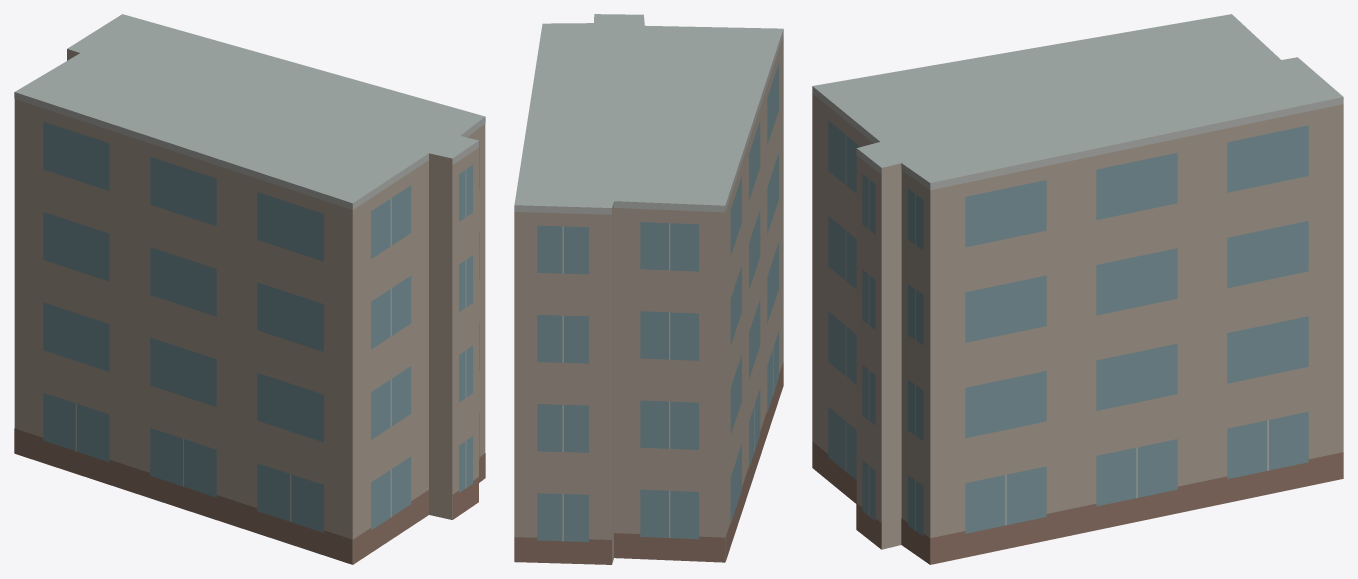
Rendered from survey-upis-32914269.glb.
3 views of the same model, side by side, from view 1: azimuth 30°, elevation 25°; view 2: azimuth 150°, elevation 25°; view 3: azimuth 270°, elevation 25° (orthographic). The views are drawn at different scales.
Visible parts, largest first — view 1: survey-upis-32914269.tmp; view 2: survey-upis-32914269.tmp; view 3: survey-upis-32914269.tmp.
Boxes of the visible parts, x1=… form: survey-upis-32914269.tmp: x1=14, y1=14, x2=485, y2=564; survey-upis-32914269.tmp: x1=514, y1=14, x2=783, y2=564; survey-upis-32914269.tmp: x1=812, y1=14, x2=1343, y2=564.
Size of the model in its own units: 12.36 by 13 by 16.41.
